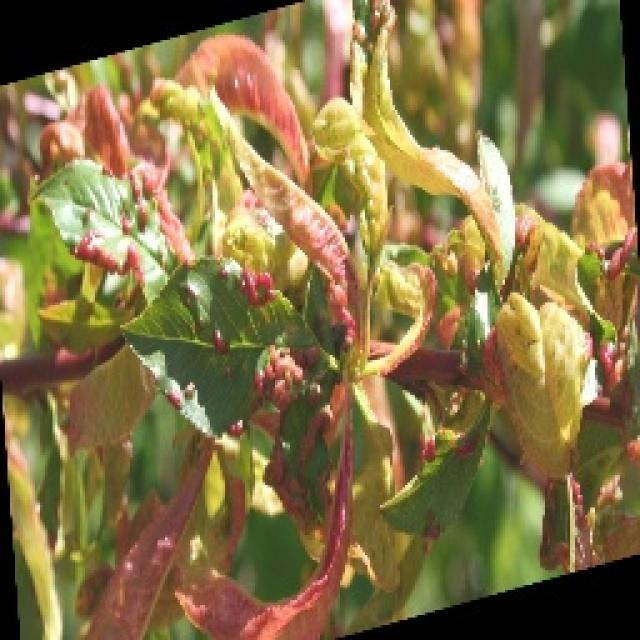Chlorosis: (0, 0, 638, 638)
peach_leaf_curl: (172, 30, 310, 185)
